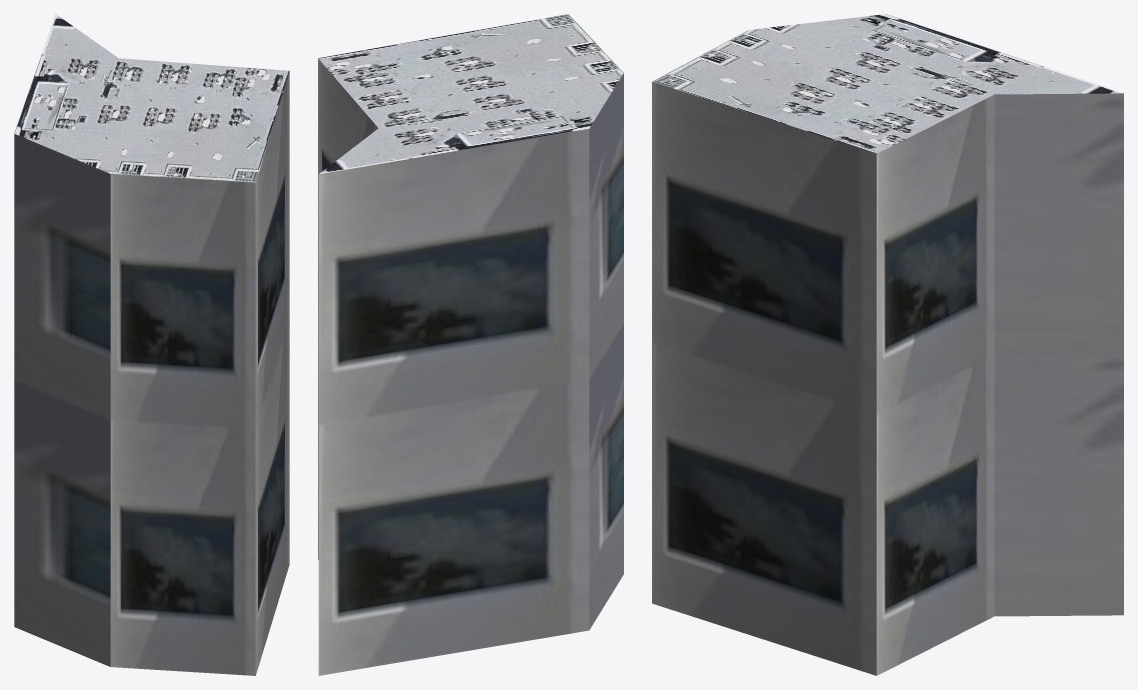
Rendered from ResTex__3607.fbx.
3 views of the same model, side by side, from view 1: azimuth 30°, elevation 25°; view 2: azimuth 150°, elevation 25°; view 3: azimuth 270°, elevation 25° (orthographic). The views are drawn at different scales.
Visible parts, largest first — view 1: CityEngineMaterial_10_m, CityEngineMaterial_4_m; view 2: CityEngineMaterial_10_m, CityEngineMaterial_4_m; view 3: CityEngineMaterial_10_m, CityEngineMaterial_4_m.
Boxes of the visible parts, x1,y1,x2,y2 form: CityEngineMaterial_10_m: (14,72,289,675); CityEngineMaterial_4_m: (14,14,289,182); CityEngineMaterial_10_m: (318,58,623,675); CityEngineMaterial_4_m: (318,14,623,174); CityEngineMaterial_10_m: (652,81,1123,675); CityEngineMaterial_4_m: (652,14,1122,153).
Size of the model in its own units: 3.45 by 6 by 4.92.
2 materials, 2 textured.
